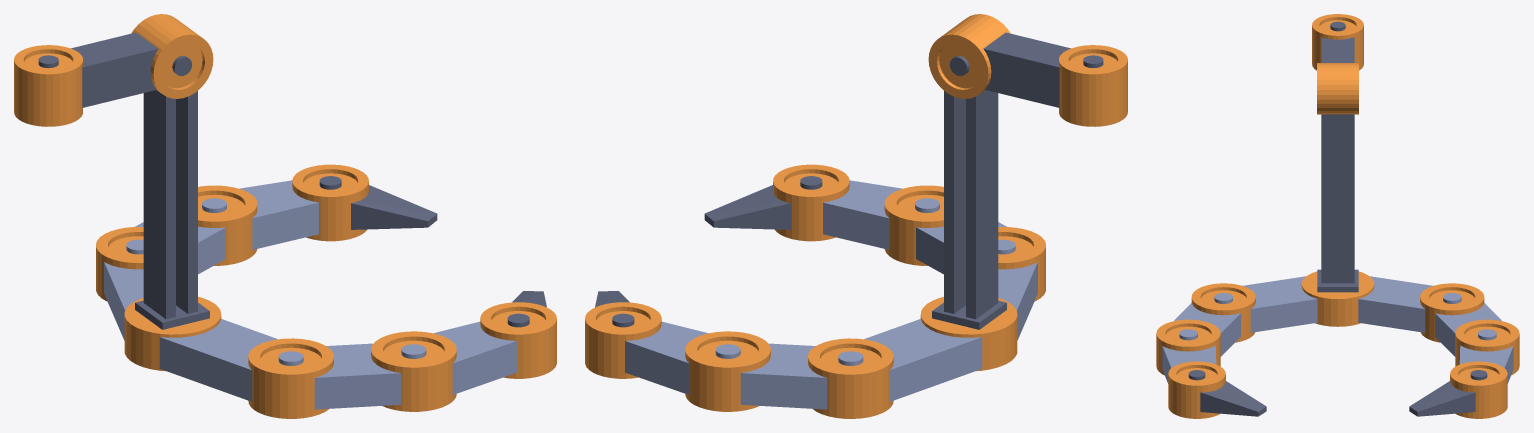
The model's file is gripper.dae.
3 renders of one model, left to right at view 1: azimuth 30°, elevation 25°; view 2: azimuth 150°, elevation 25°; view 3: azimuth 270°, elevation 25°, orthographic. The views are drawn at different scales.
Parts seen in each view (by area): view 1: Gripper; view 2: Gripper; view 3: Gripper.
Boxes of the visible parts, x1,y1,x2,y2 form: Gripper: (14,14,556,418); Gripper: (585,14,1127,418); Gripper: (1156,14,1519,418).
Bounding box in the file's own units: 155 × 138 × 104.
